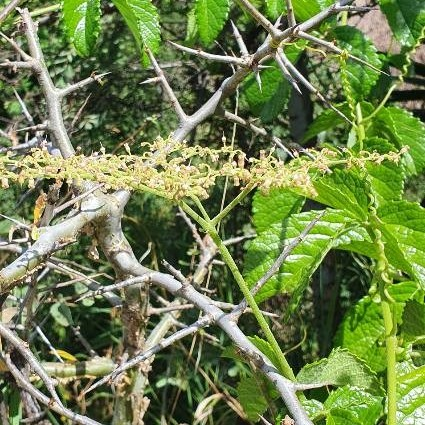obstacle: (248, 112, 398, 413)
